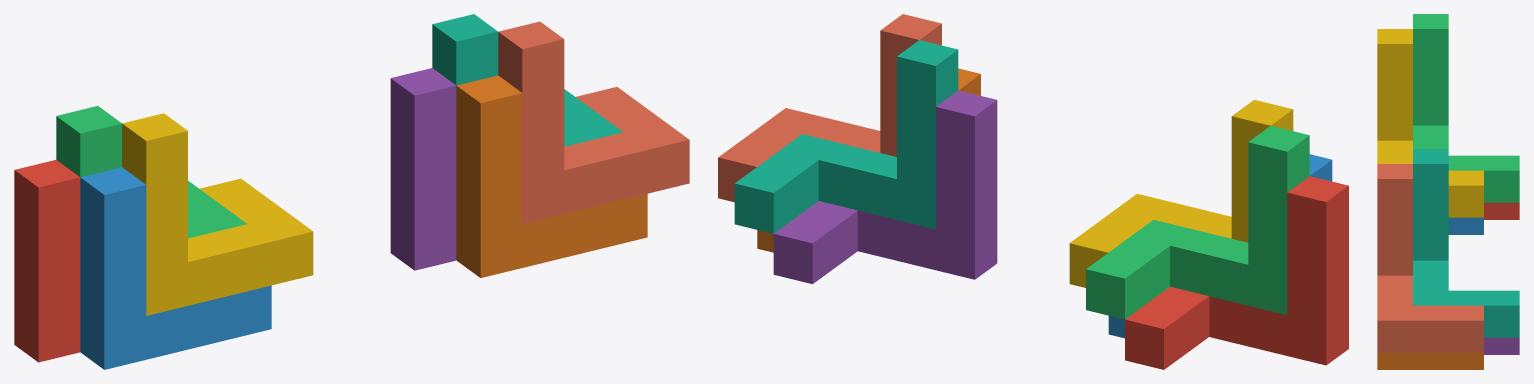
The model's file is tiling.obj.
3 renders of one model, left to right at view 1: azimuth 30°, elevation 25°; view 2: azimuth 150°, elevation 25°; view 3: azimuth 270°, elevation 25°, orthographic. The views are drawn at different scales.
Visible parts, largest first — view 1: copy_1_domain_8, copy_1_domain_4, copy_1_domain_2, copy_1_domain_6, copy_1_domain_5, copy_1_domain_1, copy_1_domain_7, copy_1_domain_3; view 2: copy_1_domain_5, copy_1_domain_1, copy_1_domain_3, copy_1_domain_7, copy_1_domain_4, copy_1_domain_8, copy_1_domain_2, copy_1_domain_6; view 3: copy_1_domain_8, copy_1_domain_7, copy_1_domain_3, copy_1_domain_4, copy_1_domain_6, copy_1_domain_1, copy_1_domain_5, copy_1_domain_2.
Part boxes in pixels (left/top/right/bottom): copy_1_domain_8: left=498, top=21, right=689, bottom=224; copy_1_domain_4: left=122, top=113, right=313, bottom=315; copy_1_domain_2: left=80, top=167, right=271, bottom=369; copy_1_domain_6: left=456, top=75, right=647, bottom=277; copy_1_domain_5: left=390, top=68, right=456, bottom=270; copy_1_domain_1: left=14, top=160, right=80, bottom=362; copy_1_domain_7: left=432, top=14, right=623, bottom=146; copy_1_domain_3: left=56, top=106, right=246, bottom=238; copy_1_domain_5: left=773, top=90, right=997, bottom=284; copy_1_domain_1: left=1125, top=176, right=1348, bottom=369; copy_1_domain_3: left=1086, top=126, right=1309, bottom=319; copy_1_domain_7: left=734, top=40, right=958, bottom=233; copy_1_domain_4: left=1069, top=99, right=1293, bottom=287; copy_1_domain_8: left=718, top=14, right=941, bottom=202; copy_1_domain_2: left=1108, top=154, right=1332, bottom=338; copy_1_domain_6: left=757, top=68, right=980, bottom=252; copy_1_domain_8: left=1377, top=164, right=1483, bottom=352; copy_1_domain_7: left=1413, top=149, right=1519, bottom=337; copy_1_domain_3: left=1413, top=14, right=1519, bottom=202; copy_1_domain_4: left=1377, top=29, right=1483, bottom=217; copy_1_domain_6: left=1377, top=352, right=1483, bottom=369; copy_1_domain_1: left=1484, top=202, right=1519, bottom=219; copy_1_domain_5: left=1484, top=337, right=1519, bottom=354; copy_1_domain_2: left=1448, top=217, right=1483, bottom=234.
Bounding box in the file's own units: 15 × 5 × 4.
